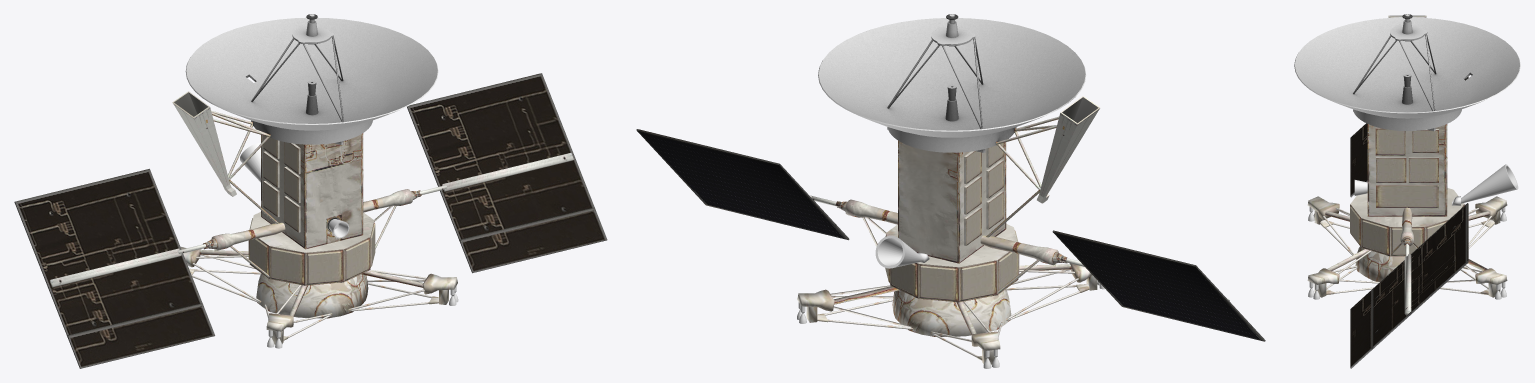
File: magellan.glb
3 views of the same model, side by side, from view 1: azimuth 30°, elevation 25°; view 2: azimuth 150°, elevation 25°; view 3: azimuth 270°, elevation 25° (orthographic). The views are drawn at different scales.
Parts seen in each view (by area): view 1: BUS, dish_etc, aluminum.002, aluminum; view 2: BUS, dish_etc, shiny_panel, aluminum; view 3: BUS, dish_etc, aluminum, aluminum.002.
Boxes of the visible parts, left/top/right/bottom form: BUS: left=14, top=73, right=607, bottom=368; dish_etc: left=185, top=14, right=438, bottom=144; aluminum.002: left=267, top=219, right=458, bottom=348; aluminum: left=240, top=143, right=260, bottom=182; BUS: left=636, top=96, right=1265, bottom=364; dish_etc: left=818, top=14, right=1086, bottom=152; shiny_panel: left=637, top=130, right=1264, bottom=341; aluminum: left=875, top=235, right=922, bottom=268; BUS: left=1307, top=15, right=1507, bottom=368; dish_etc: left=1294, top=14, right=1520, bottom=131; aluminum: left=1461, top=164, right=1518, bottom=203; aluminum.002: left=1308, top=180, right=1506, bottom=299.
Size of the model in its own units: 8.9 by 4.53 by 3.7.
Materials: 5 (3 with a texture image).
